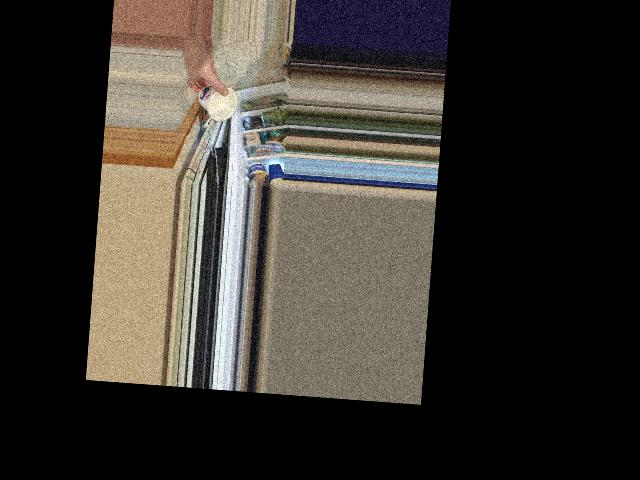cotage: (195, 82, 236, 121)
